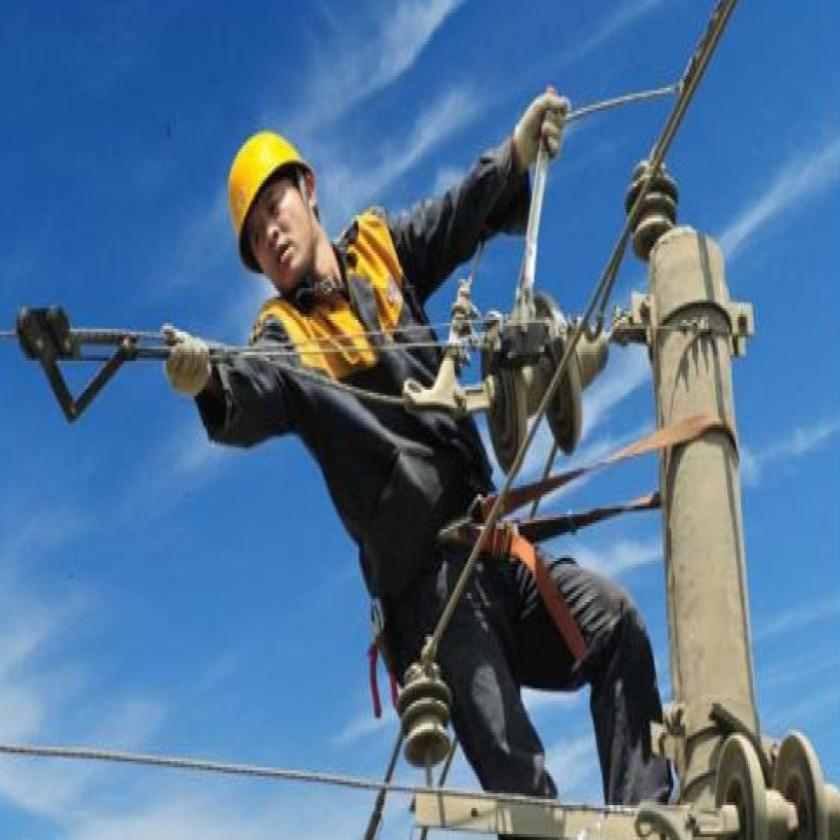Con_casco: (225, 126, 326, 288)
